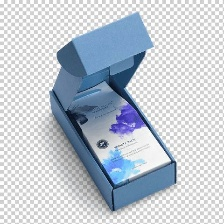carton: (59, 77, 175, 189)
